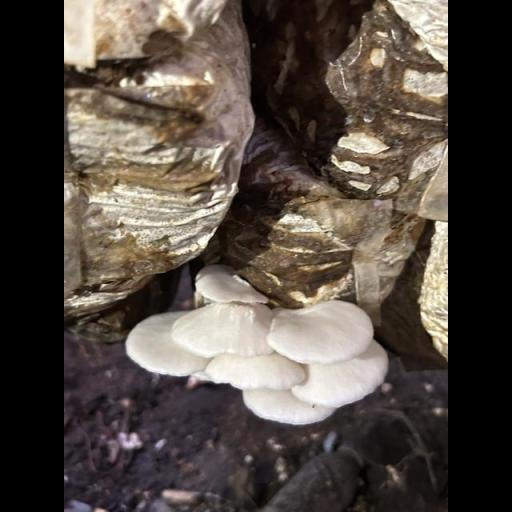White Oyster Mushroom: (127, 265, 387, 424)
